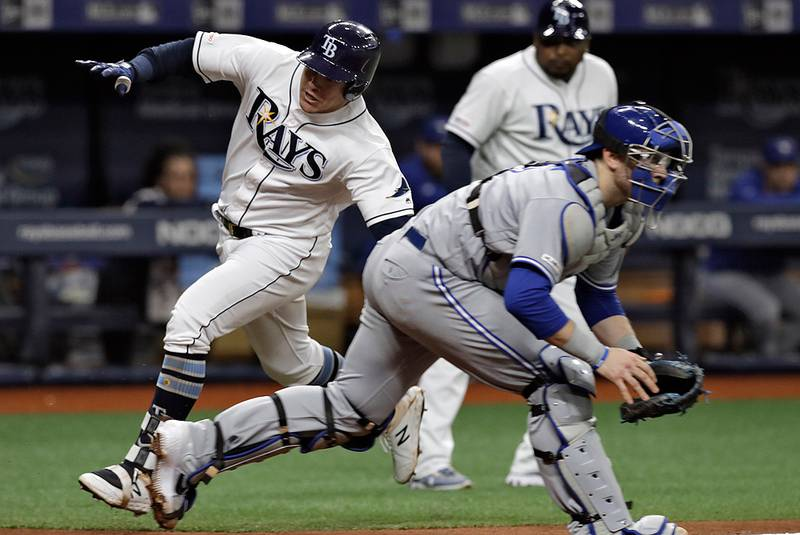Person: (362, 104, 688, 532), (77, 19, 414, 229), (439, 1, 597, 148)
